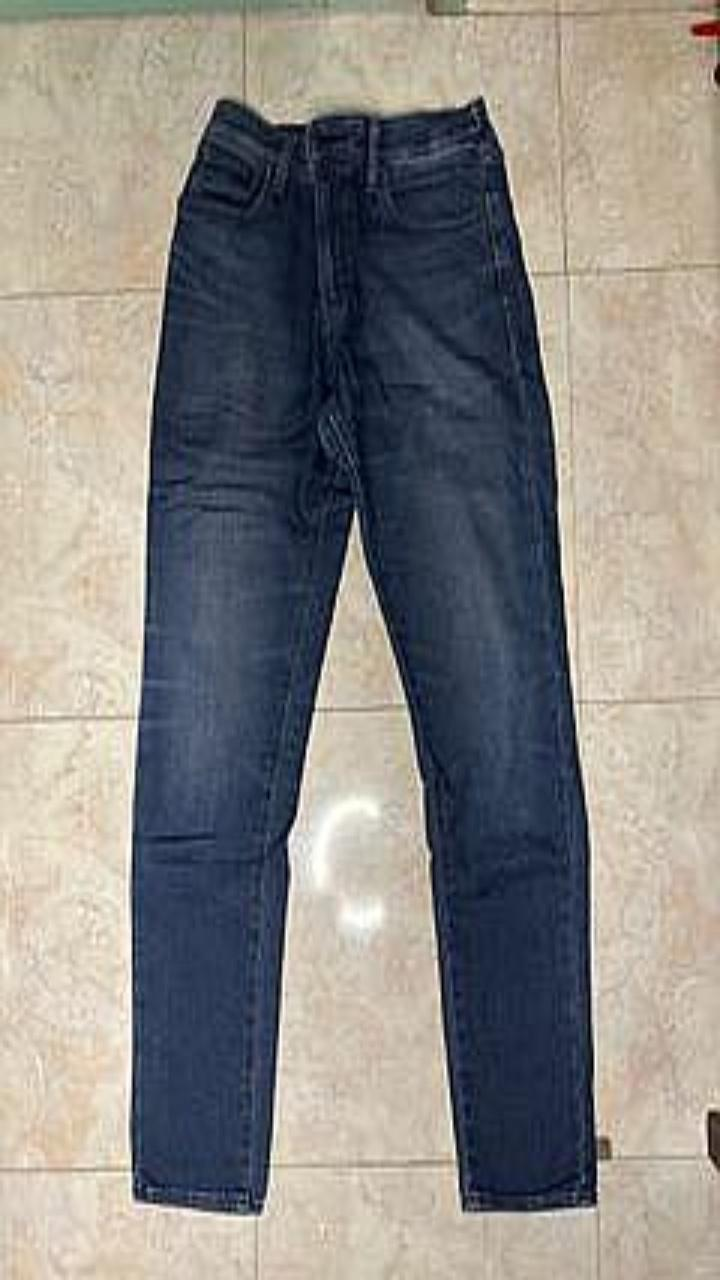Jeans: (130, 97, 596, 1213)
